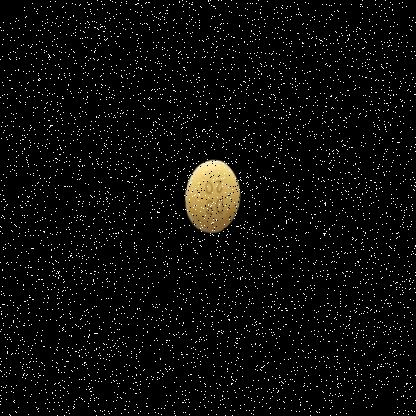rabeparzole20: (173, 140, 257, 245)
